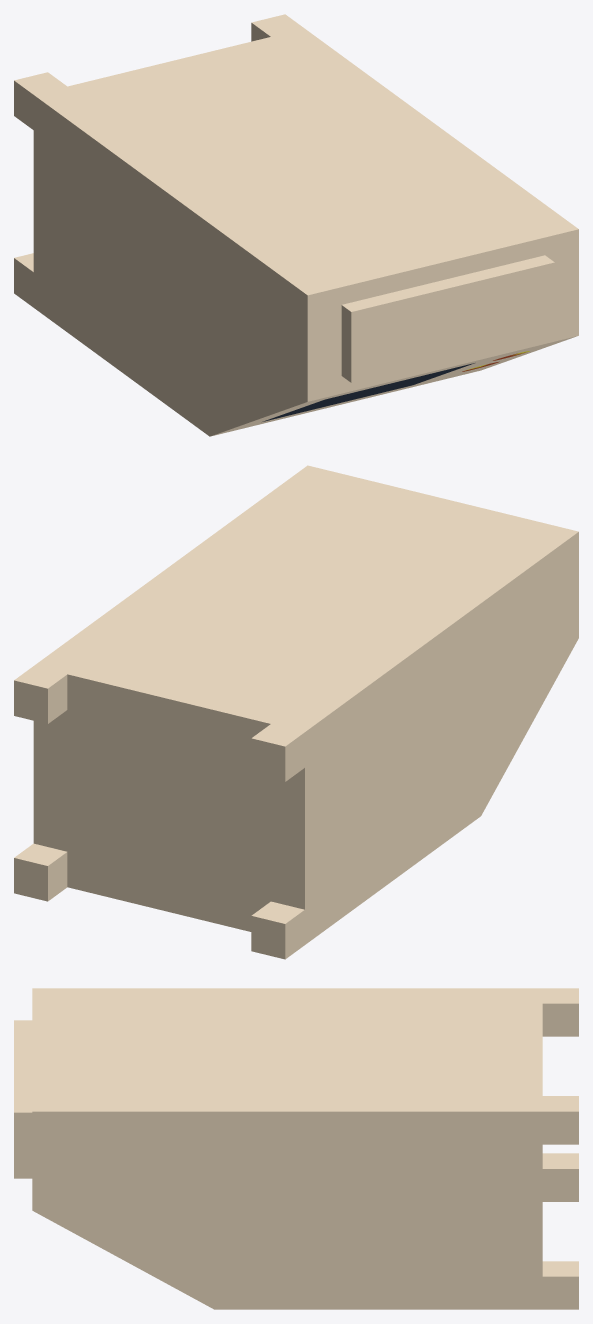
The model's file is controller_2.dae.
The picture shows the model from 3 angles, top to bottom: view 1: azimuth 30°, elevation 25°; view 2: azimuth 150°, elevation 25°; view 3: azimuth 270°, elevation 25°; orthographic projection. The views are drawn at different scales.
Visible parts, largest first — view 1: coords_ME_ID11_MA_material_12, coords_ME_ID3_MA_material_12, coords_ME_ID17_MA_jean_blue; view 2: coords_ME_ID11_MA_material_12; view 3: coords_ME_ID11_MA_material_12, coords_ME_ID3_MA_material_12.
Part boxes in pixels (<box>): coords_ME_ID11_MA_material_12: <box>14,14,578,436</box>; coords_ME_ID3_MA_material_12: <box>341,255,554,382</box>; coords_ME_ID17_MA_jean_blue: <box>262,363,474,421</box>; coords_ME_ID11_MA_material_12: <box>14,465,578,959</box>; coords_ME_ID11_MA_material_12: <box>32,988,578,1309</box>; coords_ME_ID3_MA_material_12: <box>14,1020,32,1178</box>.
Size of the model in its own units: 8.19 by 6.14 by 15.87.
